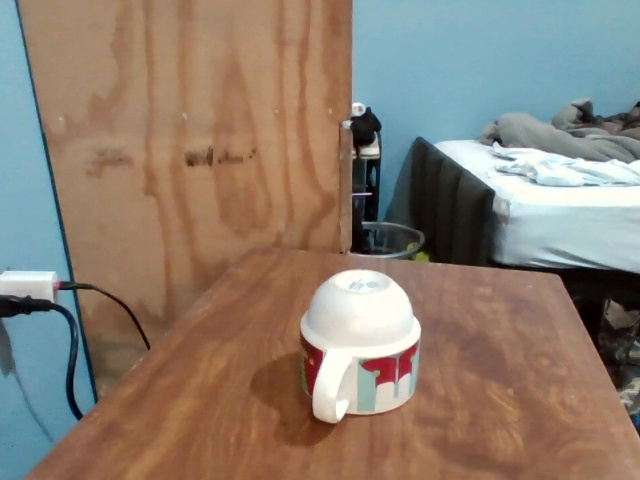taza: (298, 269, 422, 425)
